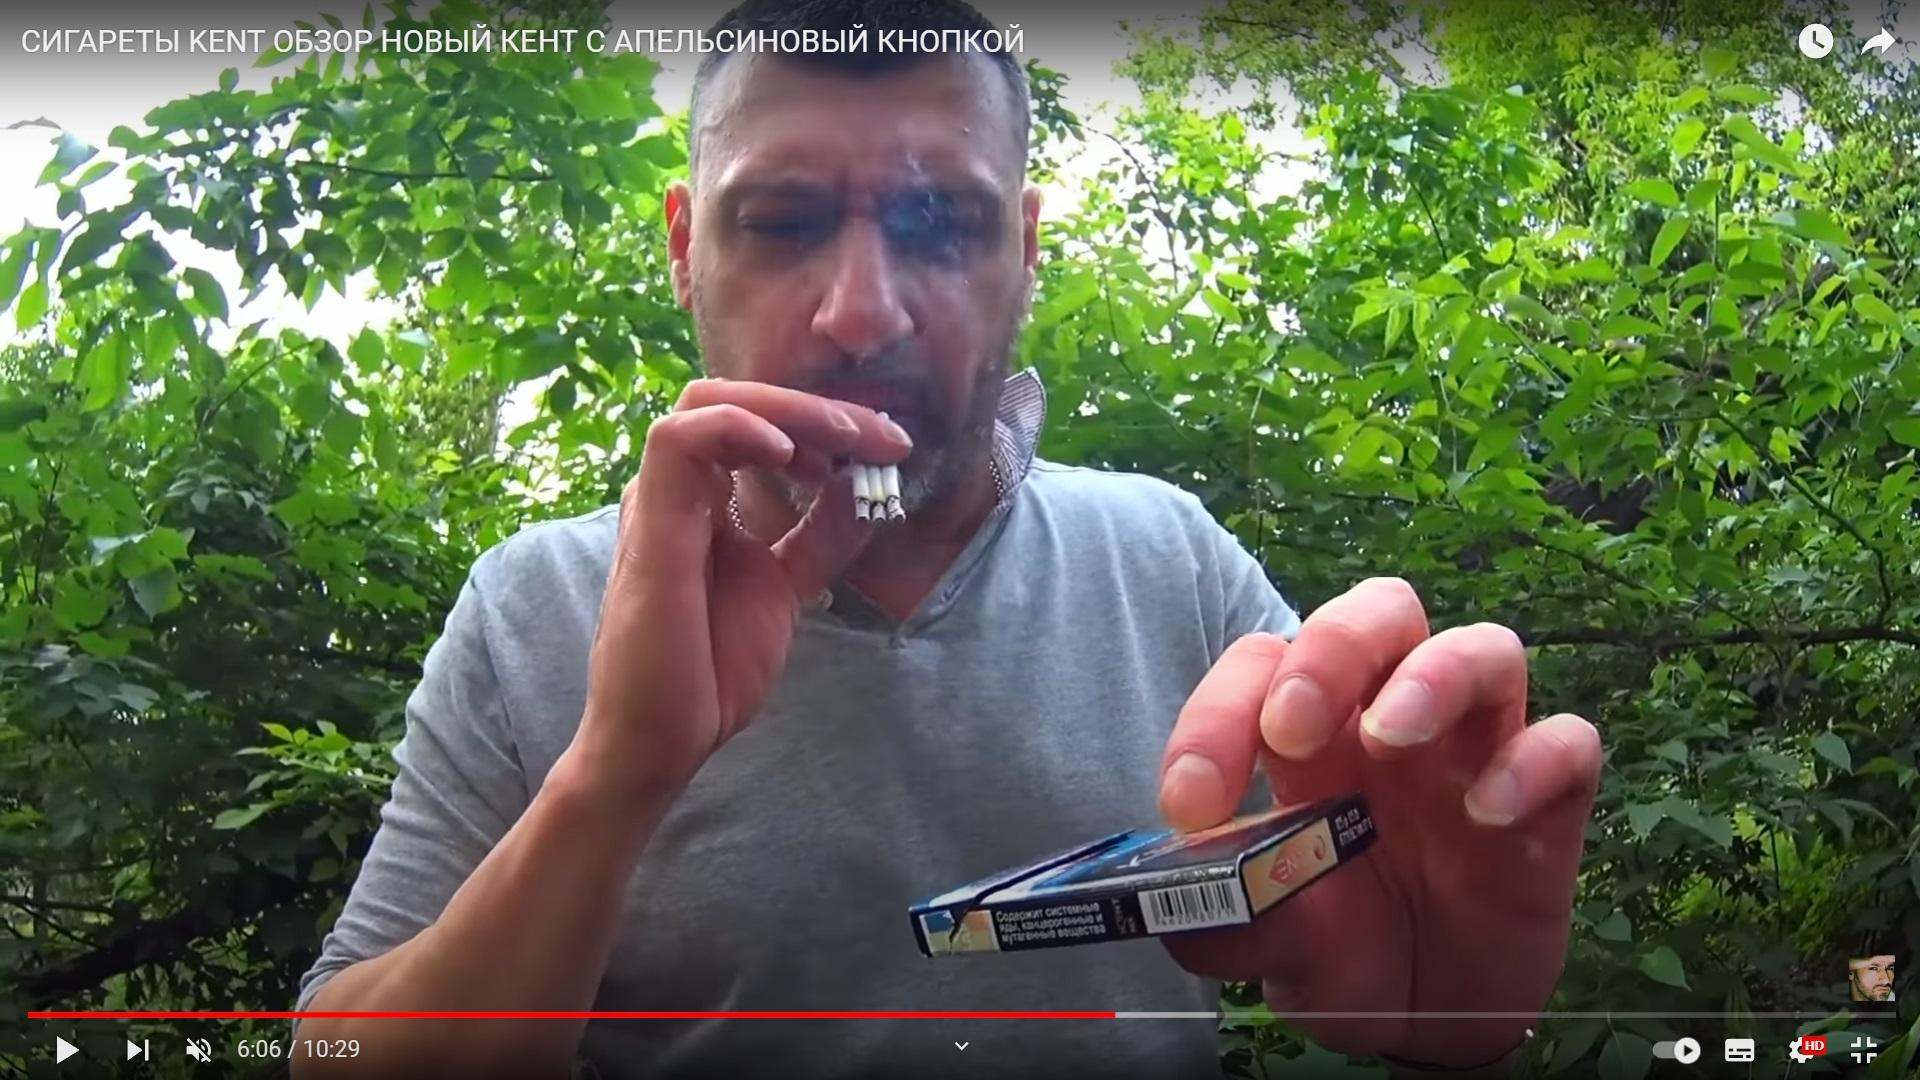cigarette: (878, 411, 906, 526), (851, 455, 870, 524), (866, 464, 886, 527)
